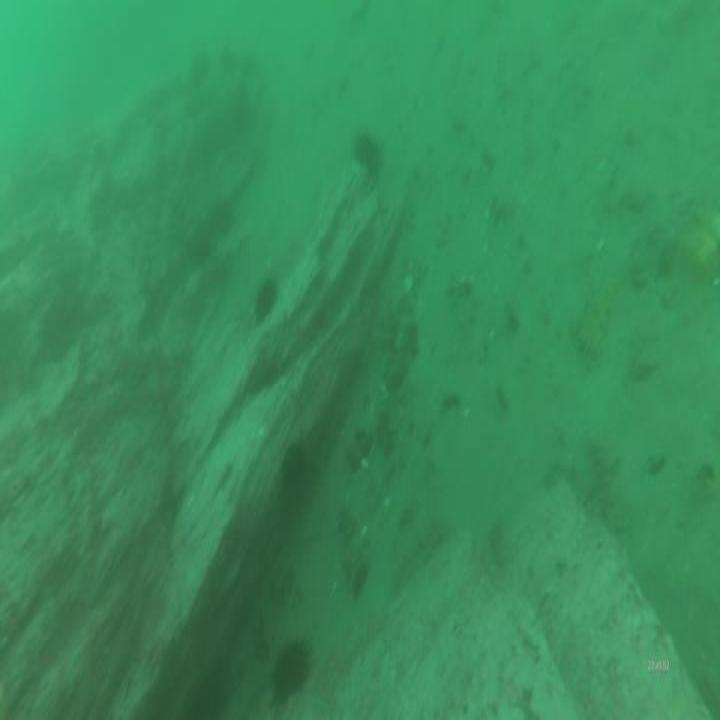echinus: (262, 636, 316, 718), (250, 270, 279, 327), (279, 437, 309, 491), (351, 128, 383, 178), (211, 192, 235, 240), (188, 45, 214, 87), (236, 50, 263, 87), (214, 42, 238, 82)
holothurian: (574, 254, 621, 361), (343, 380, 389, 476), (331, 500, 373, 598), (386, 286, 419, 395)
